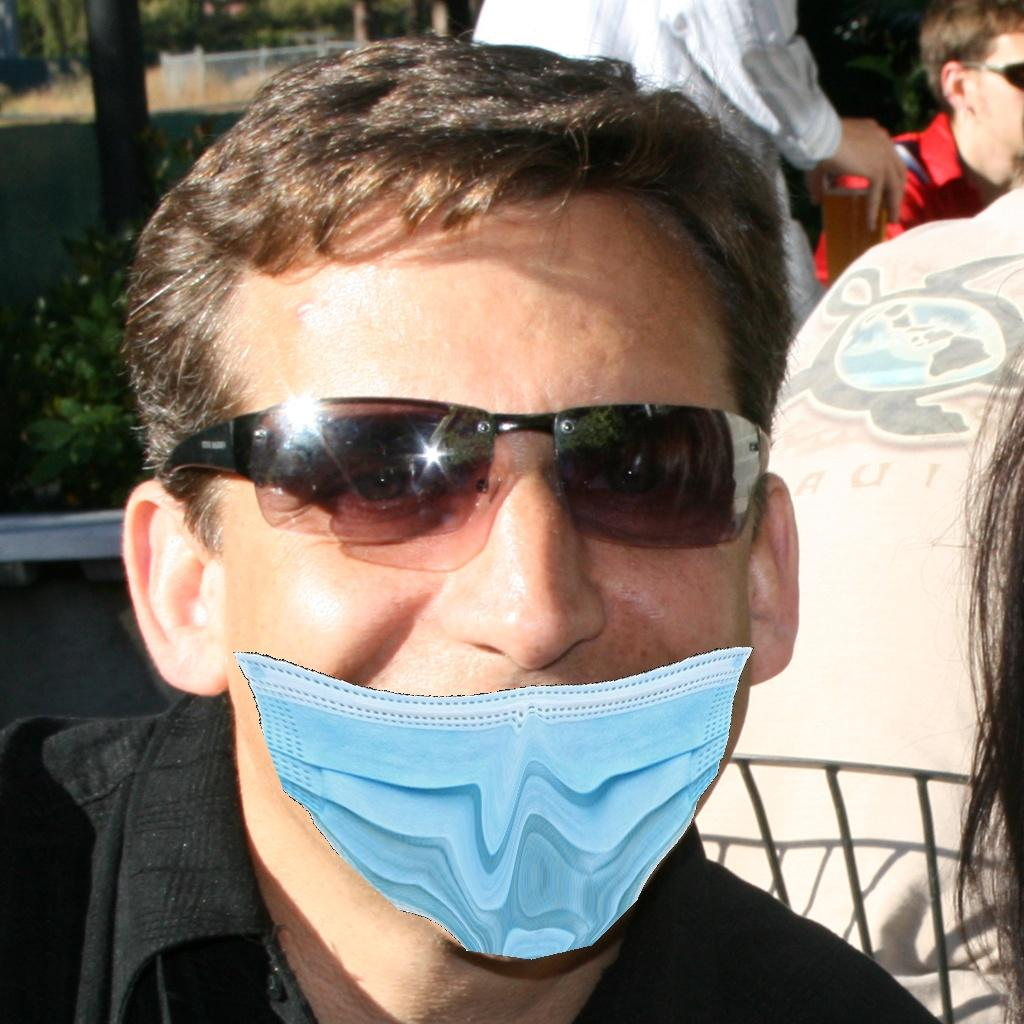Máscara Incorreta: (230, 270, 750, 936)
